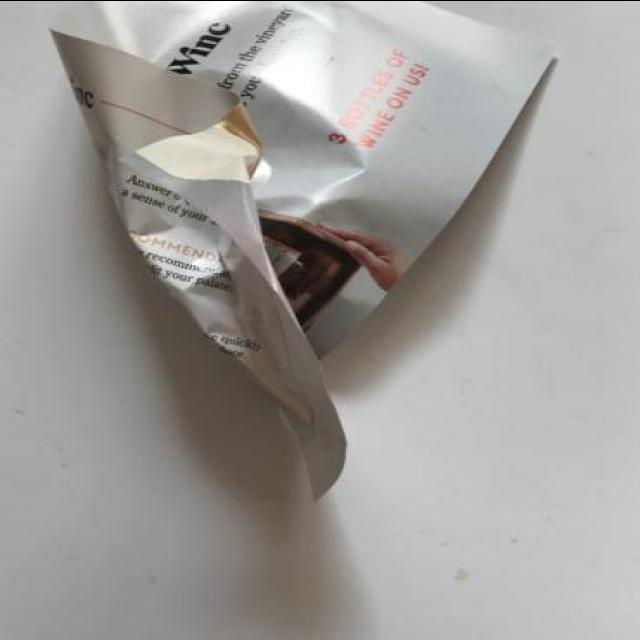kertas: (50, 0, 561, 506)
